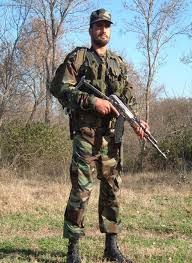gun: (73, 74, 174, 166)
uniform: (51, 42, 131, 249)
